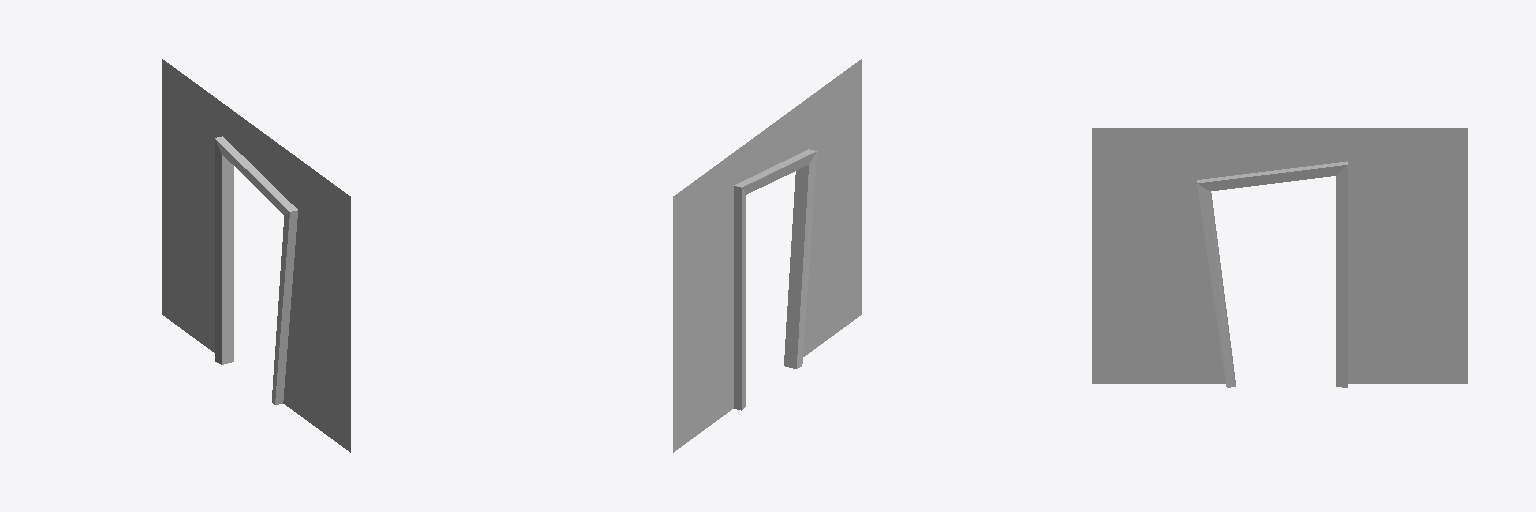
The model's file is ASSET_mur_porte_4x4_v2.obj.
3 views of the same model, side by side, from view 1: azimuth 30°, elevation 25°; view 2: azimuth 150°, elevation 25°; view 3: azimuth 270°, elevation 25° (orthographic).
Visible parts, largest first — view 1: MUR_AVEC_PORTE_Plane.005; view 2: MUR_AVEC_PORTE_Plane.005; view 3: MUR_AVEC_PORTE_Plane.005.
Part boxes in pixels (bbox=[...]): MUR_AVEC_PORTE_Plane.005: bbox=[162, 59, 350, 452]; MUR_AVEC_PORTE_Plane.005: bbox=[673, 59, 861, 452]; MUR_AVEC_PORTE_Plane.005: bbox=[1092, 128, 1467, 387].
Bounding box in the file's own units: 0.3757 × 6 × 8.